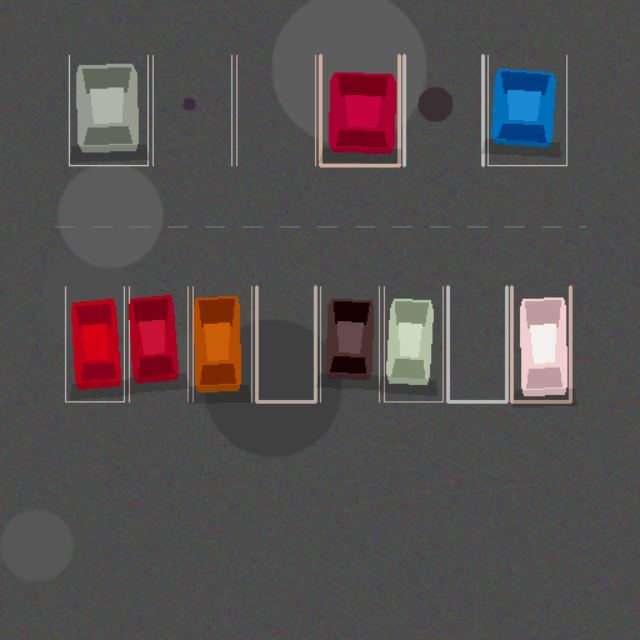space-empty: (236, 55, 315, 165), (404, 55, 483, 165), (153, 55, 231, 165), (256, 286, 315, 401), (447, 286, 506, 401)
space-occupied: (320, 55, 399, 165), (487, 55, 566, 165), (69, 55, 147, 165), (65, 286, 124, 401), (320, 286, 379, 401), (384, 286, 443, 401), (511, 286, 570, 401), (129, 286, 187, 401), (193, 286, 251, 401)
